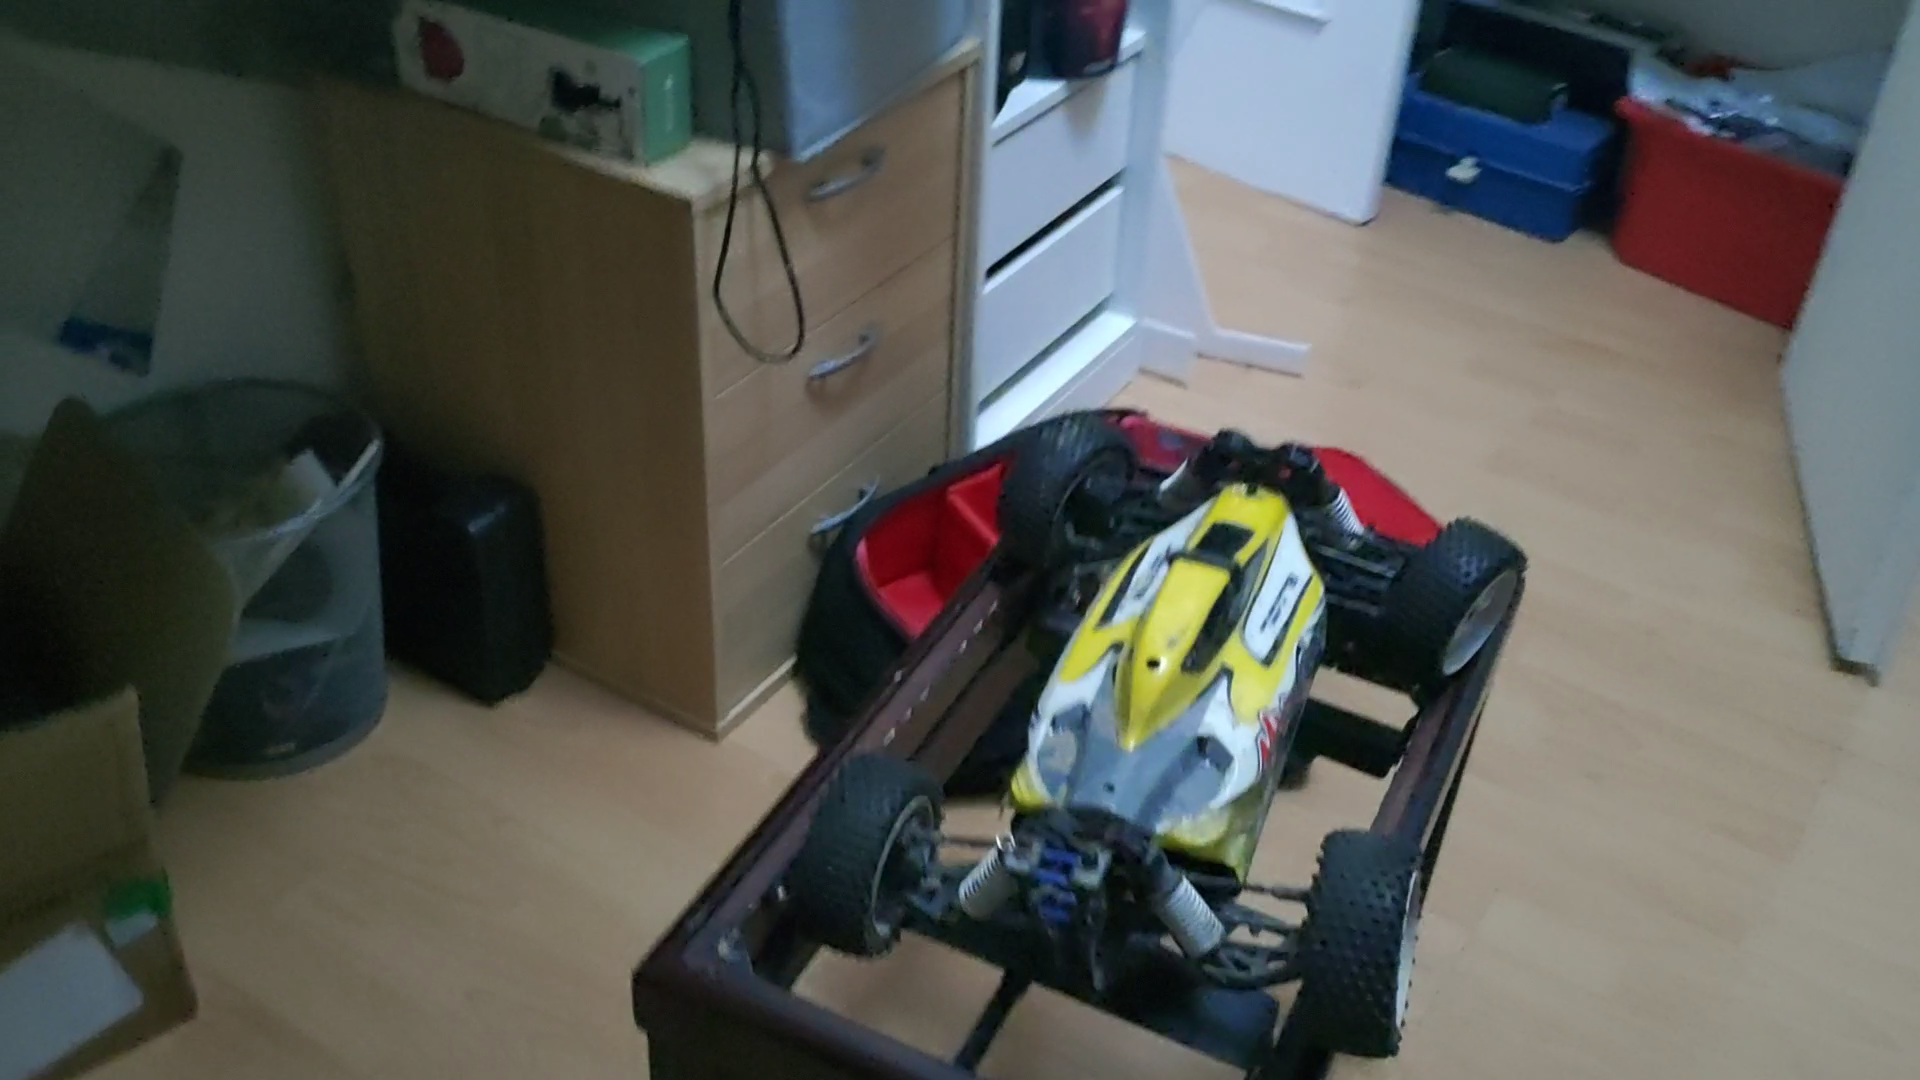buggy: (785, 417, 1535, 1046)
